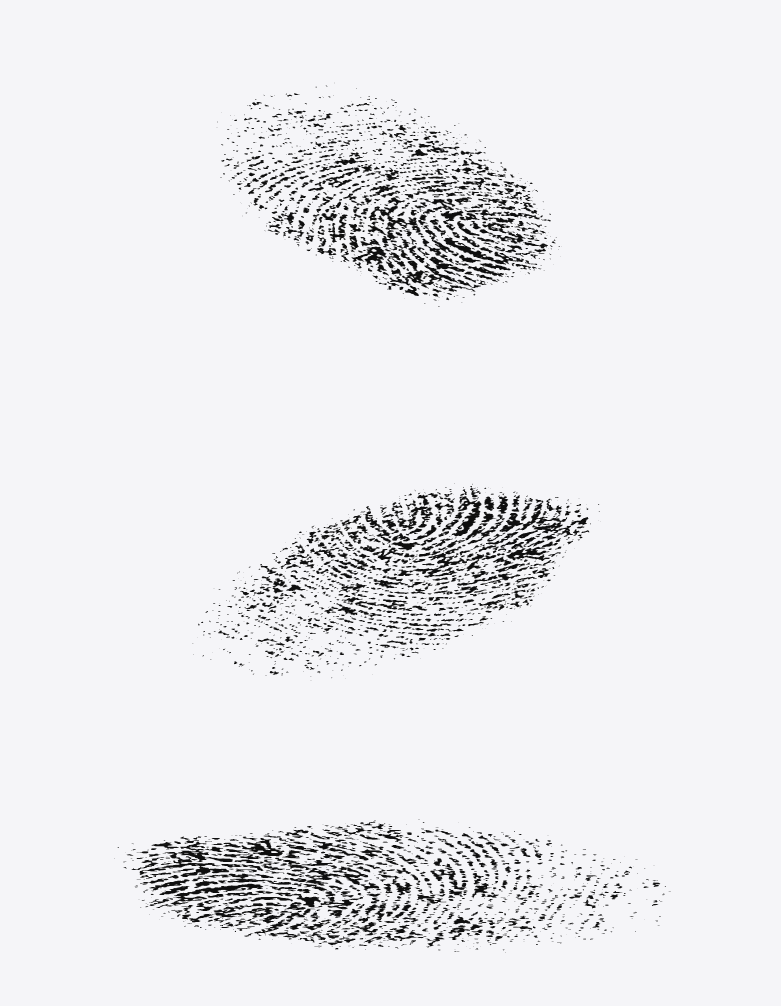
File: fingerPrint2FBX_with_knife.fbx
3 renders of one model, top to bottom at view 1: azimuth 30°, elevation 25°; view 2: azimuth 150°, elevation 25°; view 3: azimuth 270°, elevation 25°, orthographic. The views are drawn at different scales.
Visible parts, largest first — view 1: Plane.186; view 2: Plane.186; view 3: Plane.186.
Part boxes in pixels (bbox=[...]): Plane.186: bbox=[217, 85, 559, 306]; Plane.186: bbox=[192, 483, 599, 677]; Plane.186: bbox=[114, 819, 670, 952].
Size of the model in its own units: 105 by 2.64e-05 by 162.
Materials: 1 (1 with a texture image).
